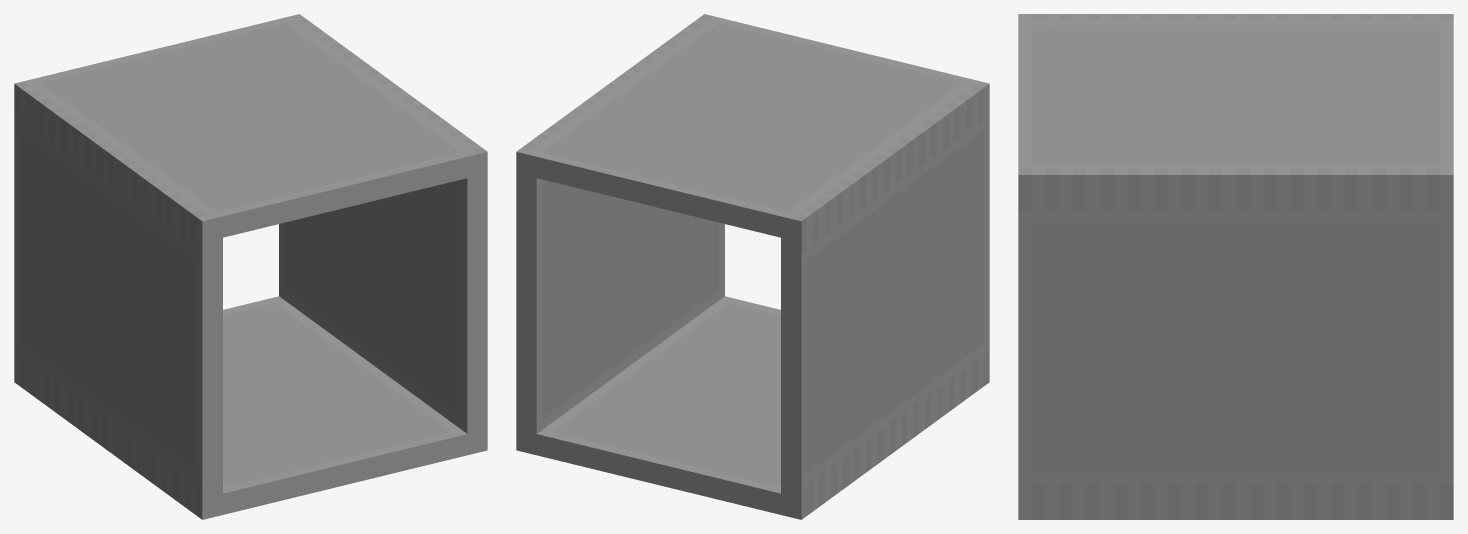
File: vent_I.fbx
The picture shows the model from 3 angles, left to right: view 1: azimuth 30°, elevation 25°; view 2: azimuth 150°, elevation 25°; view 3: azimuth 270°, elevation 25°; orthographic projection. The views are drawn at different scales.
Visible parts, largest first — view 1: cube_1, cube_2, cube, cube_3; view 2: cube_1, cube_2, cube, cube_3; view 3: cube_3, cube_1, cube.
Part boxes in pixels (x1,y1,x2,y2): cube_1: (14, 14, 487, 242); cube_2: (14, 105, 222, 498); cube: (14, 296, 487, 519); cube_3: (279, 173, 487, 433); cube_1: (516, 14, 989, 242); cube_2: (781, 105, 989, 498); cube: (516, 296, 989, 519); cube_3: (516, 173, 724, 433); cube_3: (1018, 199, 1453, 495); cube_1: (1018, 14, 1453, 199); cube: (1018, 495, 1453, 519).
Bounding box in the file's own units: 87.5 × 87.5 × 100.
2 materials, 2 textured.
